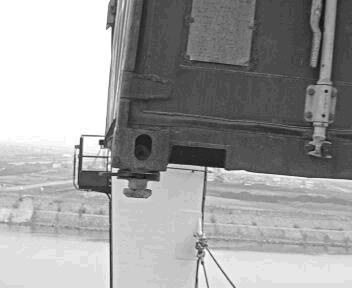twist_lock_1: (107, 163, 167, 204)
